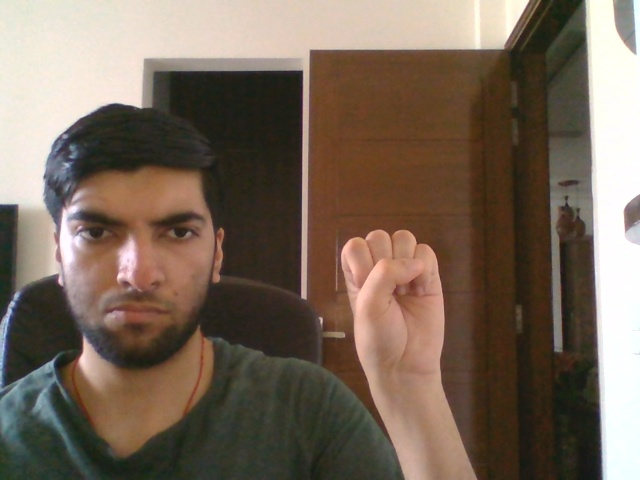LetterE: (340, 228, 445, 373)
